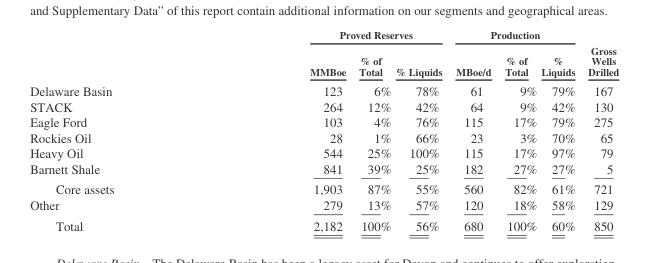table: (29, 28, 618, 232)
table column: (29, 28, 211, 232), (211, 28, 351, 232), (392, 28, 448, 232), (448, 28, 497, 232), (538, 28, 581, 232), (351, 28, 392, 232), (497, 28, 538, 232), (581, 28, 618, 232)
table column header: (29, 28, 618, 80)
table row: (29, 47, 618, 80), (29, 28, 618, 47), (29, 80, 618, 98), (29, 160, 618, 178), (29, 178, 618, 196), (29, 196, 618, 214), (29, 214, 618, 232), (29, 98, 618, 114), (29, 129, 618, 145), (29, 114, 618, 129), (29, 145, 618, 160)
table spanning cell: (211, 28, 448, 47), (448, 28, 581, 47), (581, 28, 618, 80)
